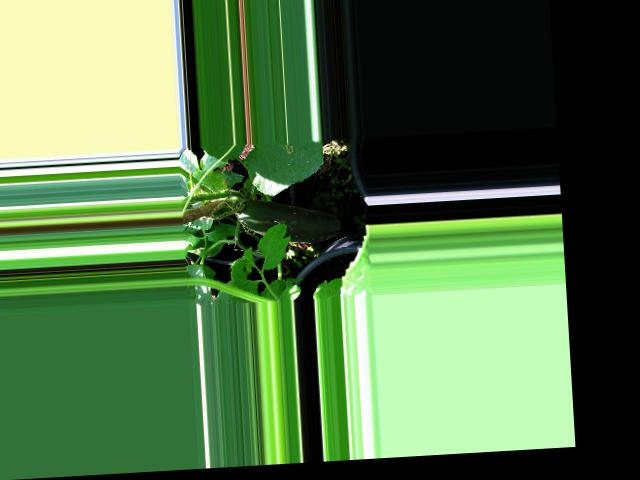cucumber: (235, 194, 341, 247)
